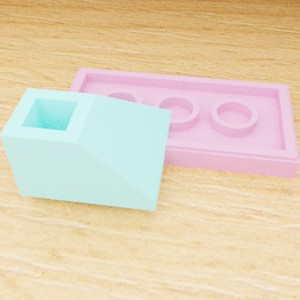lego: (47, 67, 300, 178), (0, 88, 171, 210)
